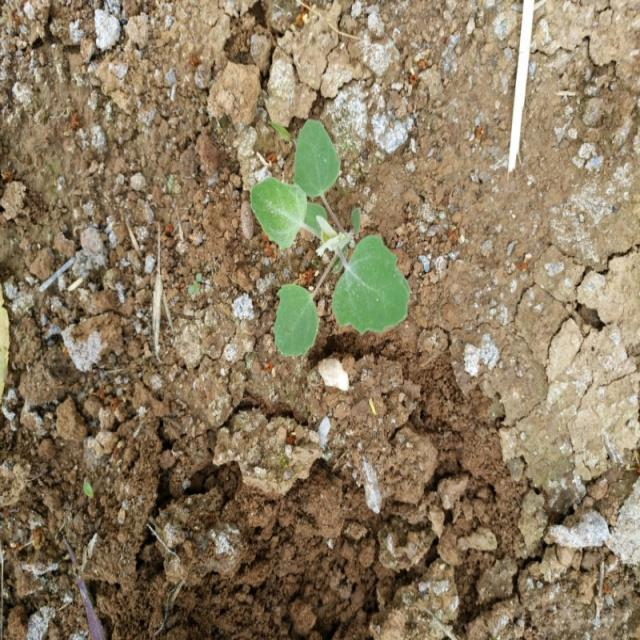ca: (248, 120, 411, 359)
